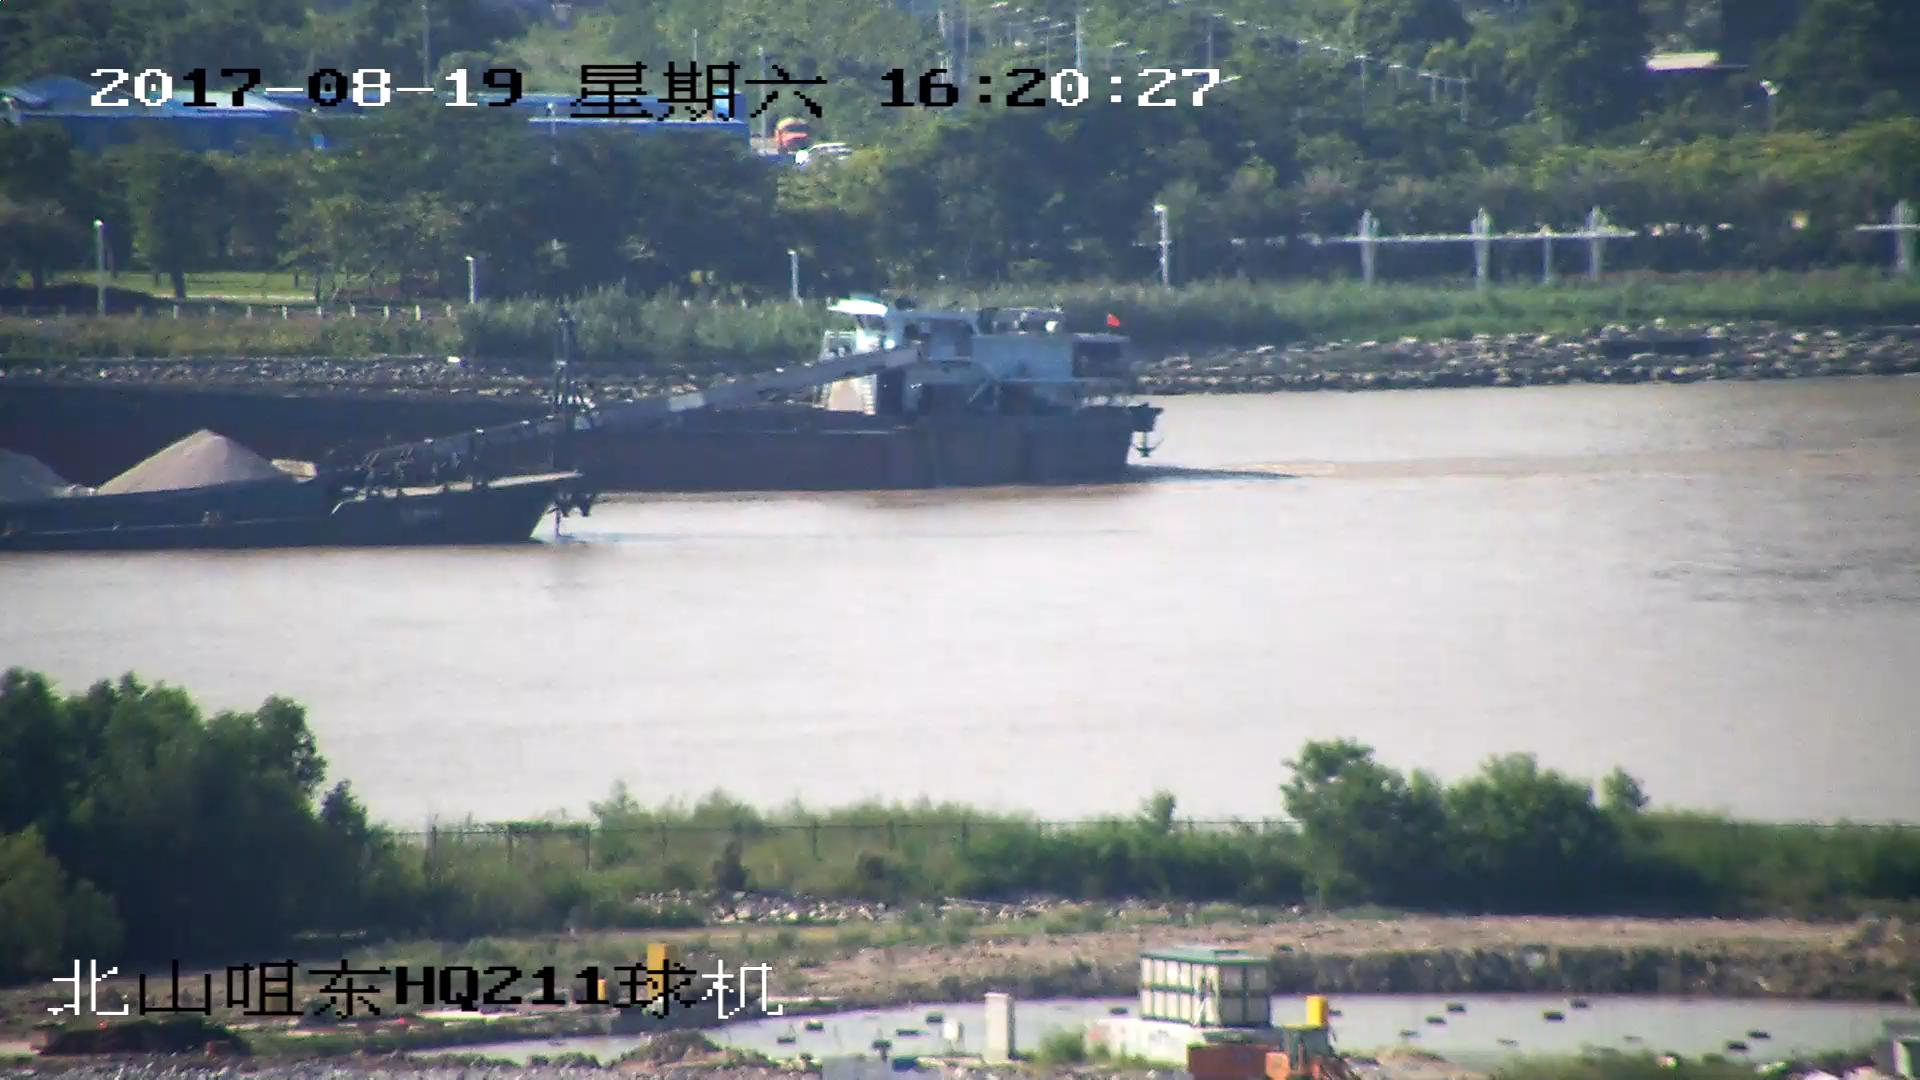bulk cargo carrier: (1, 300, 1156, 477)
ore carrier: (1, 348, 910, 554)
